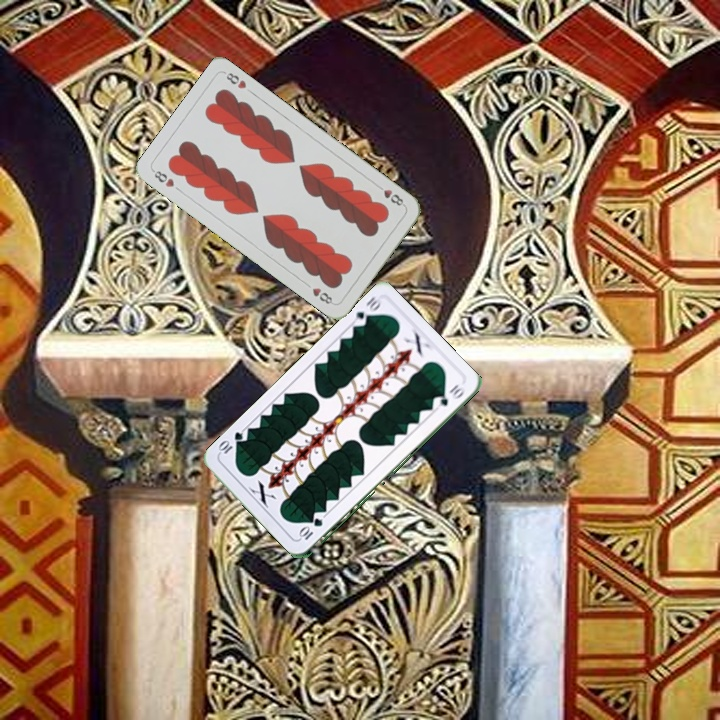G10: (348, 293, 383, 329), (296, 515, 325, 543)
H8: (372, 181, 408, 209), (149, 166, 177, 190)
